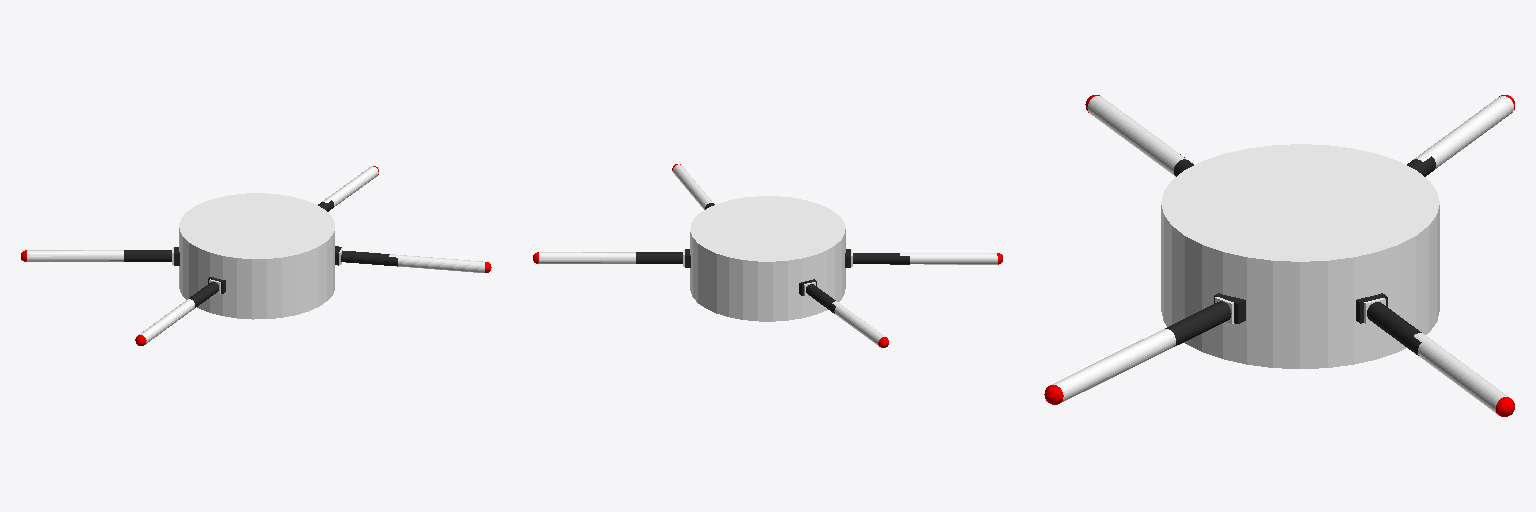
--- Render facts (derived) ---
3 views of the same robot in one strip: view 1: azimuth 30°, elevation 25°; view 2: azimuth 150°, elevation 25°; view 3: azimuth 270°, elevation 25° (orthographic).
Model ardent with 22 links and 21 joints (12 revolute, 9 fixed), rooted at base_link, posed every joint at zero.
Visible links, largest first — view 1: body, tibia_4, tibia_1, tibia_2, tibia_3, femur_1, femur_4; view 2: body, tibia_3, tibia_2, tibia_4, femur_2, tibia_1, femur_3; view 3: body, tibia_1, tibia_2, tibia_3, tibia_4, femur_1, femur_3.
Link boxes in pixels (x1,y1,x2,y2): body: (179, 193, 334, 319); tibia_4: (26, 250, 123, 261); tibia_1: (389, 254, 484, 272); tibia_2: (139, 299, 194, 344); tibia_3: (322, 166, 378, 206); femur_1: (341, 251, 397, 266); femur_4: (124, 250, 171, 261); body: (690, 196, 845, 321); tibia_3: (538, 252, 635, 263); tibia_2: (900, 253, 997, 264); tibia_4: (832, 301, 884, 345); femur_2: (853, 253, 909, 264); tibia_1: (673, 164, 712, 209); femur_3: (636, 252, 682, 263); body: (1161, 144, 1439, 368); tibia_1: (1052, 329, 1175, 402); tibia_2: (1087, 96, 1186, 176); tibia_3: (1414, 333, 1509, 414); tibia_4: (1413, 96, 1513, 168); femur_1: (1165, 301, 1231, 346); femur_3: (1367, 302, 1421, 355).
Bounding box of the posed robot: 1.05 × 0.6759 × 0.17 m (x, y, z).
Geometry: primitives only (box / cylinder / sphere), no mesh files.

robot.urdf — ardent:
<?xml version="1.0" encoding="utf-8"?>
<!-- =================================================================================== -->
<!-- |    This document was autogenerated by xacro from ardent_quad.xacro              | -->
<!-- |    EDITING THIS FILE BY HAND IS NOT RECOMMENDED                                 | -->
<!-- =================================================================================== -->
<robot name="ardent" xmlns:xacro="http://www.ros.org/wiki/xacro">
  <!-- <xacro:property name="joint_effort" value ="10000"/>
<xacro:property name="joint_velocity" value ="100"/> -->
  <!-- for more info visit: http://wiki.ros.org/urdf/Tutorials -->
  <link name="base_link"/>
  <joint name="j_ardent_attachment" type="fixed">
    <parent link="base_link"/>
    <child link="body"/>
    <origin rpy="0 0 0" xyz="0 0 0"/>
  </joint>
  <link name="body">
    <inertial>
      <origin xyz="0 0 0"/>
      <mass value="6.8"/>
      <inertia ixx="3.1081800" ixy="-0.25460189" ixz="2.0318174" iyy="6.3787776" iyz="0.16417863" izz="5.3316425"/>
    </inertial>
    <visual>
      <!--origin xyz="-0.0235 0 -0.03525" rpy="0 0 0" /-->
      <origin rpy="0 0 0" xyz="0 0 0"/>
      <geometry>
        <cylinder length="0.17" radius="0.2"/>
        <!--box size="0.102 0.109 0.106" /-->
        <!-- <mesh filename="package://phantomx_description/meshes/body.STL"  scale="1 1 1"/> -->
      </geometry>
      <material name="Orange">
        <color rgba="12 12 12 1.0"/>
      </material>
    </visual>
    <collision>
      <origin rpy="0 0 0" xyz="0 0 0"/>
      <geometry>
        <cylinder length="0.17" radius="0.2"/>
        <!-- <mesh filename="package://phantomx_description/meshes/body_coll.STL"  scale="1 1 1"/> -->
      </geometry>
    </collision>
  </link>
  <gazebo>
    <plugin filename="libgazebo_ros_p3d.so" name="p3d_base_controller">
      <alwaysOn>true</alwaysOn>
      <updateRate>50.0</updateRate>
      <bodyName>body</bodyName>
      <topicName>odom</topicName>
      <gaussianNoise>0.01</gaussianNoise>
      <frameNamespace>world</frameNamespace>
      <xyzOffsets> 0 0 0 </xyzOffsets>
      <rpyOffsets>0 0 0 </rpyOffsets>
    </plugin>
  </gazebo>
  <!-- <joint name="j_ardent_attachment" type="fixed">
      <parent link="${parent}"/>
      <child link="body"/>
      <xacro:insert_block name="origin" />
    </joint> -->
  <!-- <transmission name="t_ardent">
        <type>transmission_interface/SimpleTransmission</type>
        <joint name="j_ardent_attachment">
          <hardwareInterface>hardware_interface/EffortJointInterface</hardwareInterface>    
        </joint>
        <actuator name="j_ardent_attachment">
          <hardwareInterface>hardware_interface/EffortJointInterface</hardwareInterface>
          <mechanicalReduction>1</mechanicalReduction>
        </actuator>
      </transmission> -->
  <plugin filename="libgazebo_ros_imu.so" name="gazebo_ros_imu_plugin">
    <alwaysOn>true</alwaysOn>
    <bodyName>body</bodyName>
    <topicName>imu/data</topicName>
    <serviceName>imu/service</serviceName>
    <gaussianNoise>0.0</gaussianNoise>
    <updateRate>800.0</updateRate>
  </plugin>
  <link name="coxa_1">
    <inertial>
      <origin rpy="0 0 0" xyz="0 0 0"/>
      <mass value="0.024357719"/>
      <inertia ixx="0.0051411124" ixy="-0.00057530255" ixz="-0.000024729049" iyy="0.0081915737" iyz="-0.000019223094" izz="0.0011379812"/>
    </inertial>
    <visual>
      <origin rpy="0 0 0" xyz="0 0 0"/>
      <geometry>
        <box size="0.022 0.045 0.0325"/>
        <!--<mesh filename="package://phantomx_description/meshes/connect.STL"  scale="1 1 1"/>-->
      </geometry>
      <material name="Grey">
        <color rgba="0.20 0.20 0.20 1.0"/>
      </material>
    </visual>
    <collision>
      <origin rpy="0 0 0" xyz="0 0 0"/>
      <geometry>
        <box size="0.022 0.045 0.0325"/>
        <!-- <mesh filename="package://phantomx_description/meshes/connect_coll.STL"  scale="1 1 1"/> -->
      </geometry>
    </collision>
  </link>
  <link name="c2_1">
    <inertial>
      <origin rpy="0 0 0" xyz="0 0 0"/>
      <mass value="0.024357719"/>
      <inertia ixx="0.0051411124" ixy="-0.00057530255" ixz="-0.000024729049" iyy="0.0081915737" iyz="-0.000019223094" izz="0.0011379812"/>
    </inertial>
    <visual>
      <origin rpy="0 0 0" xyz="0 0 0"/>
      <geometry>
        <box size="0.005 0.0325 0.0325"/>
        <!-- <mesh filename="package://phantomx_description/meshes/connect.STL"  scale="1 1 1"/>-->
      </geometry>
      <material name="Orange">
        <color rgba="12 12 12 1.0"/>
      </material>
    </visual>
    <collision>
      <origin rpy="0 0 0" xyz="0 0 0"/>
      <geometry>
        <box size="0.005 0.0325 0.0325"/>
        <!-- <mesh filename="package://phantomx_description/meshes/connect.STL"  scale="1 1 1"/>-->
      </geometry>
    </collision>
  </link>
  <link name="femur_1">
    <inertial>
      <origin rpy="0 0 0" xyz="1 0 0"/>
      <mass value="0.0286"/>
      <!-- <inertia ixx="0.000035572"  ixy="-0.000114256"  ixz="-0.000008584" iyy="0.000756486" iyz="-0.000001714" izz="0.000791714" /> -->
      <inertia ixx="0.00059" ixy="-0.0" ixz="-0.0" iyy="0.0" iyz="-0.0" izz="0.00059"/>
    </inertial>
    <visual>
      <origin rpy="0 1.57 0" xyz="0.075 0 0"/>
      <geometry>
        <!-- <box size="0.022 0.25 0.0325" /> -->
        <cylinder length="0.15" radius="0.015"/>
        <!--<mesh filename="package://phantomx_description/meshes/thigh_l.STL"  scale="1 1 1"/>-->
      </geometry>
      <material name="Grey">
        <color rgba="0.20 0.20 0.20 1.0"/>
      </material>
    </visual>
    <collision>
      <origin rpy="0 1.57 0" xyz="0.075 0 0"/>
      <geometry>
        <cylinder length="0.15" radius="0.015"/>
        <!-- <mesh filename="package://phantomx_description/meshes/thigh_l_coll.STL"  scale="1 1 1"/> -->
      </geometry>
    </collision>
  </link>
  <link name="tibia_1">
    <inertial>
      <origin rpy="0 0 0" xyz="0 0 0"/>
      <mass value="0.0286"/>
      <!-- g/mm^2 -->
      <!-- <inertia ixx="35572"  ixy="-114256"  ixz="-8584" iyy="756486" iyz="-1714" izz="791714" /> -->
      <!-- <inertia ixx="0.000035572"  ixy="-0.000114256"  ixz="-0.000008584" iyy="0.000756486" iyz="-0.000001714" izz="0.000791714" /> -->
      <inertia ixx="0.00059" ixy="-0.0" ixz="-0.0" iyy="0.0" iyz="-0.0" izz="0.00059"/>
    </inertial>
    <visual>
      <origin rpy="1.57 0 1.57" xyz="0.125 0 0"/>
      <geometry>
        <cylinder length="0.25" radius="0.015"/>
        <!-- <box size="0.022 0.25 0.0325" /> -->
        <!--<mesh filename="package://phantomx_description/meshes/tibia_l.STL"  scale="1 1 1"/>-->
      </geometry>
      <material name="Orange">
        <color rgba="12 12 12 1.0"/>
      </material>
    </visual>
    <collision>
      <origin rpy="1.57 0 1.57" xyz="0.125 0 0"/>
      <geometry>
        <cylinder length="0.25" radius="0.015"/>
        <!-- <mesh filename="package://phantomx_description/meshes/tibia_l_coll.STL"  scale="1 1 1"/> -->
      </geometry>
    </collision>
  </link>
  <link name="contact_sensor_1">
    <inertial>
      <origin rpy="0 0 0" xyz="0 0 0"/>
      <mass value="0.005"/>
      <inertia ixx="1.28e-06" ixy="-0.0" ixz="-0.0" iyy="1.28e-06" iyz="-0.0" izz="1.28e-06"/>
    </inertial>
    <visual>
      <origin rpy="0 0 0" xyz="0 0 0"/>
      <geometry>
        <sphere radius="0.015"/>
        <!-- <box size="0.022 0.25 0.0325" /> -->
        <!--<mesh filename="package://phantomx_description/meshes/tibia_l.STL"  scale="1 1 1"/>-->
      </geometry>
      <material name="Black">
        <color rgba="1.0 0 0 0"/>
      </material>
    </visual>
    <collision>
      <origin rpy="0.0 0 0.0" xyz="0.0 0 0"/>
      <geometry>
        <sphere radius="0.015"/>
        <!-- <mesh filename="package://phantomx_description/meshes/tibia_l_coll.STL"  scale="1 1 1"/> -->
      </geometry>
    </collision>
  </link>
  <!-- Joint Definitions -->
  <joint name="j_coxa_1" type="revolute">
    <parent link="body"/>
    <child link="coxa_1"/>
    <origin rpy="0 0 5.576" xyz="0.175 -0.1  0.001116"/>
    <axis xyz="0 0 1"/>
    <limit effort="30" lower="-3.14" upper="3.14" velocity="0.5"/>
  </joint>
  <joint name="j_c2_1" type="fixed">
    <parent link="coxa_1"/>
    <child link="c2_1"/>
    <origin rpy="0 0 0" xyz="0.0135 0 0"/>
    <limit effort="30" lower="-3.14" upper="3.14" velocity="0.5"/>
  </joint>
  <joint name="j_femur_1" type="revolute">
    <parent link="c2_1"/>
    <child link="femur_1"/>
    <origin rpy=" 1.57 0 0" xyz="0 0 0"/>
    <axis xyz="0 0 1"/>
    <limit effort="30" lower="-3.14" upper="3.14" velocity="0.5"/>
  </joint>
  <joint name="j_tibia_1" type="revolute">
    <parent link="femur_1"/>
    <child link="tibia_1"/>
    <origin rpy="0 0 0" xyz="0.125 0 0"/>
    <axis xyz="0 0 1"/>
    <limit effort="30" lower="-3.14" upper="3.14" velocity="0.5"/>
  </joint>
  <joint name="j_contact_sensor_1" type="fixed">
    <parent link="tibia_1"/>
    <child link="contact_sensor_1"/>
    <origin rpy="0 0 0" xyz="0.25 0 0"/>
  </joint>
  <!-- <gazebo reference="$tibia_${suffix}">
        <mu1>1</mu1>
        <mu2>1</mu2>
        <fdir1>1 0 0</fdir1>
        <minDepth>0.005</minDepth>
        <maxContacts>1</maxContacts>
            <collision name="$tibia_${suffix}_collision">
                <geometry>
                    <sphere>
                    <radius>0.02175</radius>
                </sphere>
                </geometry>

            <surface>
                <friction>
                    <torsional>
                            <coefficient>10</coefficient>
                            <use_patch_radius>true</use_patch_radius>
                            <surface_radius>0.05</surface_radius>
                            <patch_radius>0.01</patch_radius>
                    </torsional>
            </friction>
            <contact>
                <poissons_ratio>0.5</poissons_ratio>
                <elastic_modulus>1e8</elastic_modulus>
            </contact>
        </surface>
    </collision>
    </gazebo> -->
  <!-- Force/Contact Sensor -->
  <!-- This should be added later to provide the force sensor feeback to the rest of the robot -->
  <gazebo reference="contact_sensor_1">
    <sensor name="contact_sensor_1" type="contact">
      <always_on>true</always_on>
      <update_rate>30</update_rate>
      <contact>
        <collision>contact_sensor_1_link_collision</collision>
      </contact>
      <plugin filename="libgazebo_ros_bumper.so" name="bumper0_plugin">
        <bumperTopicName>leg_1/contact_sensor_state</bumperTopicName>
        <frameName>contact_sensor_1</frameName>
      </plugin>
    </sensor>
  </gazebo>
  <!-- Transmissions -->
  <transmission name="t_coxa_1">
    <type>transmission_interface/SimpleTransmission</type>
    <joint name="j_coxa_1">
      <hardwareInterface>hardware_interface/EffortJointInterface</hardwareInterface>
    </joint>
    <actuator name="j_coxa_1">
      <hardwareInterface>hardware_interface/EffortJointInterface</hardwareInterface>
      <mechanicalReduction>1</mechanicalReduction>
    </actuator>
  </transmission>
  <transmission name="t_femur_1">
    <type>transmission_interface/SimpleTransmission</type>
    <joint name="j_femur_1">
      <hardwareInterface>hardware_interface/EffortJointInterface</hardwareInterface>
    </joint>
    <actuator name="j_femur_1">
      <hardwareInterface>hardware_interface/EffortJointInterface</hardwareInterface>
      <mechanicalReduction>1</mechanicalReduction>
    </actuator>
  </transmission>
  <transmission name="t_tibia_1">
    <type>transmission_interface/SimpleTransmission</type>
    <joint name="j_tibia_1">
      <hardwareInterface>hardware_interface/EffortJointInterface</hardwareInterface>
    </joint>
    <actuator name="j_tibia_1">
      <hardwareInterface>hardware_interface/EffortJointInterface</hardwareInterface>
      <mechanicalReduction>1</mechanicalReduction>
    </actuator>
  </transmission>
  <gazebo reference="body">
    <material>Gazebo/Orange</material>
  </gazebo>
  <gazebo reference="coxa_1">
    <material>Gazebo/Black</material>
  </gazebo>
  <gazebo reference="c2_1">
    <material>Gazebo/Orange</material>
  </gazebo>
  <gazebo reference="femur_1">
    <material>Gazebo/Black</material>
  </gazebo>
  <gazebo reference="tibia_1">
    <material>Gazebo/Orange</material>
  </gazebo>
  <gazebo reference="contact_sensor_1">
    <material>Gazebo/Black</material>
  </gazebo>
  <link name="coxa_2">
    <inertial>
      <origin rpy="0 0 0" xyz="0 0 0"/>
      <mass value="0.024357719"/>
      <inertia ixx="0.0051411124" ixy="-0.00057530255" ixz="-0.000024729049" iyy="0.0081915737" iyz="-0.000019223094" izz="0.0011379812"/>
    </inertial>
    <visual>
      <origin rpy="0 0 0" xyz="0 0 0"/>
      <geometry>
        <box size="0.022 0.045 0.0325"/>
        <!--<mesh filename="package://phantomx_description/meshes/connect.STL"  scale="1 1 1"/>-->
      </geometry>
      <material name="Grey">
        <color rgba="0.20 0.20 0.20 1.0"/>
      </material>
    </visual>
    <collision>
      <origin rpy="0 0 0" xyz="0 0 0"/>
      <geometry>
        <box size="0.022 0.045 0.0325"/>
        <!-- <mesh filename="package://phantomx_description/meshes/connect_coll.STL"  scale="1 1 1"/> -->
      </geometry>
    </collision>
  </link>
  <link name="c2_2">
    <inertial>
      <origin rpy="0 0 0" xyz="0 0 0"/>
      <mass value="0.024357719"/>
      <inertia ixx="0.0051411124" ixy="-0.00057530255" ixz="-0.000024729049" iyy="0.0081915737" iyz="-0.000019223094" izz="0.0011379812"/>
    </inertial>
    <visual>
      <origin rpy="0 0 0" xyz="0 0 0"/>
      <geometry>
        <box size="0.005 0.0325 0.0325"/>
        <!-- <mesh filename="package://phantomx_description/meshes/connect.STL"  scale="1 1 1"/>-->
      </geometry>
      <material name="Orange">
        <color rgba="12 12 12 1.0"/>
      </material>
    </visual>
    <collision>
      <origin rpy="0 0 0" xyz="0 0 0"/>
      <geometry>
        <box size="0.005 0.0325 0.0325"/>
        <!-- <mesh filename="package://phantomx_description/meshes/connect.STL"  scale="1 1 1"/>-->
      </geometry>
    </collision>
  </link>
  <link name="femur_2">
    <inertial>
      <origin rpy="0 0 0" xyz="1 0 0"/>
      <mass value="0.0286"/>
      <!-- <inertia ixx="0.000035572"  ixy="-0.000114256"  ixz="-0.000008584" iyy="0.000756486" iyz="-0.000001714" izz="0.000791714" /> -->
      <inertia ixx="0.00059" ixy="-0.0" ixz="-0.0" iyy="0.0" iyz="-0.0" izz="0.00059"/>
    </inertial>
    <visual>
      <origin rpy="0 1.57 0" xyz="0.075 0 0"/>
      <geometry>
        <!-- <box size="0.022 0.25 0.0325" /> -->
        <cylinder length="0.15" radius="0.015"/>
        <!--<mesh filename="package://phantomx_description/meshes/thigh_l.STL"  scale="1 1 1"/>-->
      </geometry>
      <material name="Grey">
        <color rgba="0.20 0.20 0.20 1.0"/>
      </material>
    </visual>
    <collision>
      <origin rpy="0 1.57 0" xyz="0.075 0 0"/>
      <geometry>
        <cylinder length="0.15" radius="0.015"/>
        <!-- <mesh filename="package://phantomx_description/meshes/thigh_l_coll.STL"  scale="1 1 1"/> -->
      </geometry>
    </collision>
  </link>
  <link name="tibia_2">
    <inertial>
      <origin rpy="0 0 0" xyz="0 0 0"/>
      <mass value="0.0286"/>
      <!-- g/mm^2 -->
      <!-- <inertia ixx="35572"  ixy="-114256"  ixz="-8584" iyy="756486" iyz="-1714" izz="791714" /> -->
      <!-- <inertia ixx="0.000035572"  ixy="-0.000114256"  ixz="-0.000008584" iyy="0.000756486" iyz="-0.000001714" izz="0.000791714" /> -->
      <inertia ixx="0.00059" ixy="-0.0" ixz="-0.0" iyy="0.0" iyz="-0.0" izz="0.00059"/>
    </inertial>
    <visual>
      <origin rpy="1.57 0 1.57" xyz="0.125 0 0"/>
      <geometry>
        <cylinder length="0.25" radius="0.015"/>
        <!-- <box size="0.022 0.25 0.0325" /> -->
        <!--<mesh filename="package://phantomx_description/meshes/tibia_l.STL"  scale="1 1 1"/>-->
      </geometry>
      <material name="Orange">
        <color rgba="12 12 12 1.0"/>
      </material>
    </visual>
    <collision>
      <origin rpy="1.57 0 1.57" xyz="0.125 0 0"/>
      <geometry>
        <cylinder length="0.25" radius="0.015"/>
        <!-- <mesh filename="package://phantomx_description/meshes/tibia_l_coll.STL"  scale="1 1 1"/> -->
      </geometry>
    </collision>
  </link>
  <link name="contact_sensor_2">
    <inertial>
      <origin rpy="0 0 0" xyz="0 0 0"/>
      <mass value="0.005"/>
      <inertia ixx="1.28e-06" ixy="-0.0" ixz="-0.0" iyy="1.28e-06" iyz="-0.0" izz="1.28e-06"/>
    </inertial>
    <visual>
      <origin rpy="0 0 0" xyz="0 0 0"/>
      <geometry>
        <sphere radius="0.015"/>
        <!-- <box size="0.022 0.25 0.0325" /> -->
        <!--<mesh filename="package://phantomx_description/meshes/tibia_l.STL"  scale="1 1 1"/>-->
      </geometry>
      <material name="Black">
        <color rgba="1.0 0 0 0"/>
      </material>
    </visual>
    <collision>
      <origin rpy="0.0 0 0.0" xyz="0.0 0 0"/>
      <geometry>
        <sphere radius="0.015"/>
        <!-- <mesh filename="package://phantomx_description/meshes/tibia_l_coll.STL"  scale="1 1 1"/> -->
      </geometry>
    </collision>
  </link>
  <!-- Joint Definitions -->
  <joint name="j_coxa_2" type="revolute">
    <parent link="body"/>
    <child link="coxa_2"/>
    <origin rpy="0 0 -2.62" xyz="-0.175 -0.1  0.001116"/>
    <axis xyz="0 0 1"/>
    <limit effort="30" lower="-3.14" upper="3.14" velocity="0.5"/>
  </joint>
  <joint name="j_c2_2" type="fixed">
    <parent link="coxa_2"/>
    <child link="c2_2"/>
    <origin rpy="0 0 0" xyz="0.0135 0 0"/>
    <limit effort="30" lower="-3.14" upper="3.14" velocity="0.5"/>
  </joint>
  <joint name="j_femur_2" type="revolute">
    <parent link="c2_2"/>
    <child link="femur_2"/>
    <origin rpy=" 1.57 0 0" xyz="0 0 0"/>
    <axis xyz="0 0 1"/>
    <limit effort="30" lower="-3.14" upper="3.14" velocity="0.5"/>
  </joint>
  <joint name="j_tibia_2" type="revolute">
    <parent link="femur_2"/>
    <child link="tibia_2"/>
    <origin rpy="0 0 0" xyz="0.125 0 0"/>
    <axis xyz="0 0 1"/>
    <limit effort="30" lower="-3.14" upper="3.14" velocity="0.5"/>
  </joint>
  <joint name="j_contact_sensor_2" type="fixed">
    <parent link="tibia_2"/>
    <child link="contact_sensor_2"/>
    <origin rpy="0 0 0" xyz="0.25 0 0"/>
  </joint>
  <!-- <gazebo reference="$tibia_${suffix}">
        <mu1>1</mu1>
        <mu2>1</mu2>
        <fdir1>1 0 0</fdir1>
        <minDepth>0.005</minDepth>
        <maxContacts>1</maxContacts>
            <collision name="$tibia_${suffix}_collision">
                <geometry>
                    <sphere>
                    <radius>0.02175</radius>
                </sphere>
                </geometry>

            <surface>
                <friction>
                    <torsional>
                            <coefficient>10</coefficient>
                            <use_patch_radius>true</use_patch_radius>
                            <surface_radius>0.05</surface_radius>
                            <patch_radius>0.01</patch_radius>
                    </torsional>
            </friction>
            <contact>
                <poissons_ratio>0.5</poissons_ratio>
                <elastic_modulus>1e8</elastic_modulus>
            </contact>
        </surface>
    </collision>
    </gazebo> -->
  <!-- Force/Contact Sensor -->
  <!-- This should be added later to provide the force sensor feeback to the rest of the robot -->
  <gazebo reference="contact_sensor_2">
    <sensor name="contact_sensor_2" type="contact">
      <always_on>true</always_on>
      <update_rate>30</update_rate>
      <contact>
        <collision>contact_sensor_2_link_collision</collision>
      </contact>
      <plugin filename="libgazebo_ros_bumper.so" name="bumper0_plugin">
        <bumperTopicName>leg_2/contact_sensor_state</bumperTopicName>
        <frameName>contact_sensor_2</frameName>
      </plugin>
    </sensor>
  </gazebo>
  <!-- Transmissions -->
  <transmission name="t_coxa_2">
    <type>transmission_interface/SimpleTransmission</type>
    <joint name="j_coxa_2">
      <hardwareInterface>hardware_interface/EffortJointInterface</hardwareInterface>
    </joint>
    <actuator name="j_coxa_2">
      <hardwareInterface>hardware_interface/EffortJointInterface</hardwareInterface>
      <mechanicalReduction>1</mechanicalReduction>
    </actuator>
  </transmission>
  <transmission name="t_femur_2">
    <type>transmission_interface/SimpleTransmission</type>
    <joint name="j_femur_2">
      <hardwareInterface>hardware_interface/EffortJointInterface</hardwareInterface>
    </joint>
    <actuator name="j_femur_2">
      <hardwareInterface>hardware_interface/EffortJointInterface</hardwareInterface>
      <mechanicalReduction>1</mechanicalReduction>
    </actuator>
  </transmission>
  <transmission name="t_tibia_2">
    <type>transmission_interface/SimpleTransmission</type>
    <joint name="j_tibia_2">
      <hardwareInterface>hardware_interface/EffortJointInterface</hardwareInterface>
    </joint>
    <actuator name="j_tibia_2">
      <hardwareInterface>hardware_interface/EffortJointInterface</hardwareInterface>
      <mechanicalReduction>1</mechanicalReduction>
    </actuator>
  </transmission>
  <gazebo reference="body">
    <material>Gazebo/Orange</material>
  </gazebo>
  <gazebo reference="coxa_2">
    <material>Gazebo/Black</material>
  </gazebo>
  <gazebo reference="c2_2">
    <material>Gazebo/Orange</material>
  </gazebo>
  <gazebo reference="femur_2">
    <material>Gazebo/Black</material>
  </gazebo>
  <gazebo reference="tibia_2">
    <material>Gazebo/Orange</material>
  </gazebo>
  <gazebo reference="contact_sensor_2">
    <material>Gazebo/Black</material>
  </gazebo>
  <link name="coxa_3">
    <inertial>
      <origin rpy="0 0 0" xyz="0 0 0"/>
      <mass value="0.024357719"/>
      <inertia ixx="0.0051411124" ixy="-0.00057530255" ixz="-0.000024729049" iyy="0.0081915737" iyz="-0.000019223094" izz="0.0011379812"/>
    </inertial>
    <visual>
      <origin rpy="0 0 0" xyz="0 0 0"/>
      <geometry>
        <box size="0.022 0.045 0.0325"/>
        <!--<mesh filename="package://phantomx_description/meshes/connect.STL"  scale="1 1 1"/>-->
      </geometry>
      <material name="Grey">
        <color rgba="0.20 0.20 0.20 1.0"/>
      </material>
    </visual>
    <collision>
      <origin rpy="0 0 0" xyz="0 0 0"/>
      <geometry>
        <box size="0.022 0.045 0.0325"/>
        <!-- <mesh filename="package://phantomx_description/meshes/connect_coll.STL"  scale="1 1 1"/> -->
      </geometry>
    </collision>
  </link>
  <link name="c2_3">
    <inertial>
      <origin rpy="0 0 0" xyz="0 0 0"/>
      <mass value="0.024357719"/>
      <inertia ixx="0.0051411124" ixy="-0.00057530255" ixz="-0.000024729049" iyy="0.0081915737" iyz="-0.000019223094" izz="0.0011379812"/>
    </inertial>
    <visual>
      <origin rpy="0 0 0" xyz="0 0 0"/>
      <geometry>
        <box size="0.005 0.0325 0.0325"/>
        <!-- <mesh filename="package://phantomx_description/meshes/connect.STL"  scale="1 1 1"/>-->
      </geometry>
      <material name="Orange">
        <color rgba="12 12 12 1.0"/>
      </material>
    </visual>
    <collision>
      <origin rpy="0 0 0" xyz="0 0 0"/>
      <geometry>
        <box size="0.005 0.0325 0.0325"/>
        <!-- <mesh filename="package://phantomx_description/meshes/connect.STL"  scale="1 1 1"/>-->
      </geometry>
    </collision>
  </link>
  <link name="femur_3">
    <inertial>
      <origin rpy="0 0 0" xyz="1 0 0"/>
      <mass value="0.0286"/>
      <!-- <inertia ixx="0.000035572"  ixy="-0.000114256"  ixz="-0.000008584" iyy="0.000756486" iyz="-0.000001714" izz="0.000791714" /> -->
      <inertia ixx="0.00059" ixy="-0.0" ixz="-0.0" iyy="0.0" iyz="-0.0" izz="0.00059"/>
    </inertial>
    <visual>
      <origin rpy="0 1.57 0" xyz="0.075 0 0"/>
      <geometry>
        <!-- <box size="0.022 0.25 0.0325" /> -->
        <cylinder length="0.15" radius="0.015"/>
        <!--<mesh filename="package://phantomx_description/meshes/thigh_l.STL"  scale="1 1 1"/>-->
      </geometry>
      <material name="Grey">
        <color rgba="0.20 0.20 0.20 1.0"/>
      </material>
    </visual>
    <collision>
      <origin rpy="0 1.57 0" xyz="0.075 0 0"/>
      <geometry>
        <cylinder length="0.15" radius="0.015"/>
        <!-- <mesh filename="package://phantomx_description/meshes/thigh_l_coll.STL"  scale="1 1 1"/> -->
      </geometry>
    </collision>
  </link>
  <link name="tibia_3">
    <inertial>
      <origin rpy="0 0 0" xyz="0 0 0"/>
      <mass value="0.0286"/>
      <!-- g/mm^2 -->
      <!-- <inertia ixx="35572"  ixy="-114256"  ixz="-8584" iyy="756486" iyz="-1714" izz="791714" /> -->
      <!-- <inertia ixx="0.000035572"  ixy="-0.000114256"  ixz="-0.000008584" iyy="0.000756486" iyz="-0.000001714" izz="0.000791714" /> -->
      <inertia ixx="0.00059" ixy="-0.0" ixz="-0.0" iyy="0.0" iyz="-0.0" izz="0.00059"/>
    </inertial>
    <visual>
      <origin rpy="1.57 0 1.57" xyz="0.125 0 0"/>
      <geometry>
        <cylinder length="0.25" radius="0.015"/>
        <!-- <box size="0.022 0.25 0.0325" /> -->
        <!--<mesh filename="package://phantomx_description/meshes/tibia_l.STL"  scale="1 1 1"/>-->
      </geometry>
      <material name="Orange">
        <color rgba="12 12 12 1.0"/>
      </material>
    </visual>
    <collision>
      <origin rpy="1.57 0 1.57" xyz="0.125 0 0"/>
      <geometry>
        <cylinder length="0.25" radius="0.015"/>
        <!-- <mesh filename="package://phantomx_description/meshes/tibia_l_coll.STL"  scale="1 1 1"/> -->
      </geometry>
    </collision>
  </link>
  <link name="contact_sensor_3">
    <inertial>
      <origin rpy="0 0 0" xyz="0 0 0"/>
      <mass value="0.005"/>
      <inertia ixx="1.28e-06" ixy="-0.0" ixz="-0.0" iyy="1.28e-06" iyz="-0.0" izz="1.28e-06"/>
    </inertial>
    <visual>
      <origin rpy="0 0 0" xyz="0 0 0"/>
      <geometry>
        <sphere radius="0.015"/>
        <!-- <box size="0.022 0.25 0.0325" /> -->
        <!--<mesh filename="package://phantomx_description/meshes/tibia_l.STL"  scale="1 1 1"/>-->
      </geometry>
      <material name="Black">
        <color rgba="1.0 0 0 0"/>
      </material>
    </visual>
    <collision>
      <origin rpy="0.0 0 0.0" xyz="0.0 0 0"/>
      <geometry>
        <sphere radius="0.015"/>
        <!-- <mesh filename="package://phantomx_description/meshes/tibia_l_coll.STL"  scale="1 1 1"/> -->
      </geometry>
    </collision>
  </link>
  <!-- Joint Definitions -->
  <joint name="j_coxa_3" type="revolute">
    <parent link="body"/>
    <child link="coxa_3"/>
    <origin rpy="0 0 0.52" xyz="0.175 0.1  0.001116"/>
    <axis xyz="0 0 1"/>
    <limit effort="30" lower="-3.14" upper="3.14" velocity="0.5"/>
  </joint>
  <joint name="j_c2_3" type="fixed">
    <parent link="coxa_3"/>
    <child link="c2_3"/>
    <origin rpy="0 0 0" xyz="0.0135 0 0"/>
    <limit effort="30" lower="-3.14" upper="3.14" velocity="0.5"/>
  </joint>
  <joint name="j_femur_3" type="revolute">
    <parent link="c2_3"/>
    <child link="femur_3"/>
    <origin rpy=" 1.57 0 0" xyz="0 0 0"/>
    <axis xyz="0 0 1"/>
    <limit effort="30" lower="-3.14" upper="3.14" velocity="0.5"/>
  </joint>
  <joint name="j_tibia_3" type="revolute">
    <parent link="femur_3"/>
    <child link="tibia_3"/>
    <origin rpy="0 0 0" xyz="0.125 0 0"/>
    <axis xyz="0 0 1"/>
    <limit effort="30" lower="-3.14" upper="3.14" velocity="0.5"/>
  </joint>
  <joint name="j_contact_sensor_3" type="fixed">
    <parent link="tibia_3"/>
    <child link="contact_sensor_3"/>
    <origin rpy="0 0 0" xyz="0.25 0 0"/>
  </joint>
  <!-- <gazebo reference="$tibia_${suffix}">
        <mu1>1</mu1>
        <mu2>1</mu2>
        <fdir1>1 0 0</fdir1>
        <minDepth>0.005</minDepth>
        <maxContacts>1</maxContacts>
            <collision name="$tibia_${suffix}_collision">
                <geometry>
                    <sphere>
                    <radius>0.02175</radius>
                </sphere>
                </geometry>

            <surface>
                <friction>
                    <torsional>
                            <coefficient>10</coefficient>
                            <use_patch_radius>true</use_patch_radius>
                            <surface_radius>0.05</surface_radius>
                            <patch_radius>0.01</patch_radius>
                    </torsional>
            </friction>
            <contact>
                <poissons_ratio>0.5</poissons_ratio>
                <elastic_modulus>1e8</elastic_modulus>
            </contact>
        </surface>
    </collision>
    </gazebo> -->
  <!-- Force/Contact Sensor -->
  <!-- This should be added later to provide the force sensor feeback to the rest of the robot -->
  <gazebo reference="contact_sensor_3">
    <sensor name="contact_sensor_3" type="contact">
      <always_on>true</always_on>
      <update_rate>30</update_rate>
      <contact>
        <collision>contact_sensor_3_link_collision</collision>
      </contact>
      <plugin filename="libgazebo_ros_bumper.so" name="bumper0_plugin">
        <bumperTopicName>leg_3/contact_sensor_state</bumperTopicName>
        <frameName>contact_sensor_3</frameName>
      </plugin>
    </sensor>
  </gazebo>
  <!-- Transmissions -->
  <transmission name="t_coxa_3">
    <type>transmission_interface/SimpleTransmission</type>
    <joint name="j_coxa_3">
      <hardwareInterface>hardware_interface/EffortJointInterface</hardwareInterface>
    </joint>
    <actuator name="j_coxa_3">
      <hardwareInterface>hardware_interface/EffortJointInterface</hardwareInterface>
      <mechanicalReduction>1</mechanicalReduction>
    </actuator>
  </transmission>
  <transmission name="t_femur_3">
    <type>transmission_interface/SimpleTransmission</type>
    <joint name="j_femur_3">
      <hardwareInterface>hardware_interface/EffortJointInterface</hardwareInterface>
    </joint>
    <actuator name="j_femur_3">
      <hardwareInterface>hardware_interface/EffortJointInterface</hardwareInterface>
      <mechanicalReduction>1</mechanicalReduction>
    </actuator>
  </transmission>
  <transmission name="t_tibia_3">
    <type>transmission_interface/SimpleTransmission</type>
    <joint name="j_tibia_3">
      <hardwareInterface>hardware_interface/EffortJointInterface</hardwareInterface>
    </joint>
    <actuator name="j_tibia_3">
      <hardwareInterface>hardware_interface/EffortJointInterface</hardwareInterface>
      <mechanicalReduction>1</mechanicalReduction>
    </actuator>
  </transmission>
  <gazebo reference="body">
    <material>Gazebo/Orange</material>
  </gazebo>
  <gazebo reference="coxa_3">
    <material>Gazebo/Black</material>
  </gazebo>
  <gazebo reference="c2_3">
    <material>Gazebo/Orange</material>
  </gazebo>
  <gazebo reference="femur_3">
    <material>Gazebo/Black</material>
  </gazebo>
  <gazebo reference="tibia_3">
    <material>Gazebo/Orange</material>
  </gazebo>
  <gazebo reference="contact_sensor_3">
    <material>Gazebo/Black</material>
  </gazebo>
  <link name="coxa_4">
    <inertial>
      <origin rpy="0 0 0" xyz="0 0 0"/>
      <mass value="0.024357719"/>
      <inertia ixx="0.0051411124" ixy="-0.00057530255" ixz="-0.000024729049" iyy="0.0081915737" iyz="-0.000019223094" izz="0.0011379812"/>
    </inertial>
    <visual>
      <origin rpy="0 0 0" xyz="0 0 0"/>
      <geometry>
        <box size="0.022 0.045 0.0325"/>
        <!--<mesh filename="package://phantomx_description/meshes/connect.STL"  scale="1 1 1"/>-->
      </geometry>
      <material name="Grey">
        <color rgba="0.20 0.20 0.20 1.0"/>
      </material>
    </visual>
    <collision>
      <origin rpy="0 0 0" xyz="0 0 0"/>
      <geometry>
        <box size="0.022 0.045 0.0325"/>
        <!-- <mesh filename="package://phantomx_description/meshes/connect_coll.STL"  scale="1 1 1"/> -->
      </geometry>
    </collision>
  </link>
  <link name="c2_4">
    <inertial>
      <origin rpy="0 0 0" xyz="0 0 0"/>
      <mass value="0.024357719"/>
      <inertia ixx="0.0051411124" ixy="-0.00057530255" ixz="-0.000024729049" iyy="0.0081915737" iyz="-0.000019223094" izz="0.0011379812"/>
    </inertial>
    <visual>
      <origin rpy="0 0 0" xyz="0 0 0"/>
      <geometry>
        <box size="0.005 0.0325 0.0325"/>
        <!-- <mesh filename="package://phantomx_description/meshes/connect.STL"  scale="1 1 1"/>-->
      </geometry>
      <material name="Orange">
        <color rgba="12 12 12 1.0"/>
      </material>
    </visual>
    <collision>
      <origin rpy="0 0 0" xyz="0 0 0"/>
      <geometry>
        <box size="0.005 0.0325 0.0325"/>
        <!-- <mesh filename="package://phantomx_description/meshes/connect.STL"  scale="1 1 1"/>-->
      </geometry>
    </collision>
  </link>
  <link name="femur_4">
    <inertial>
      <origin rpy="0 0 0" xyz="1 0 0"/>
      <mass value="0.0286"/>
      <!-- <inertia ixx="0.000035572"  ixy="-0.000114256"  ixz="-0.000008584" iyy="0.000756486" iyz="-0.000001714" izz="0.000791714" /> -->
      <inertia ixx="0.00059" ixy="-0.0" ixz="-0.0" iyy="0.0" iyz="-0.0" izz="0.00059"/>
    </inertial>
    <visual>
      <origin rpy="0 1.57 0" xyz="0.075 0 0"/>
      <geometry>
        <!-- <box size="0.022 0.25 0.0325" /> -->
        <cylinder length="0.15" radius="0.015"/>
        <!--<mesh filename="package://phantomx_description/meshes/thigh_l.STL"  scale="1 1 1"/>-->
      </geometry>
      <material name="Grey">
        <color rgba="0.20 0.20 0.20 1.0"/>
      </material>
    </visual>
    <collision>
      <origin rpy="0 1.57 0" xyz="0.075 0 0"/>
      <geometry>
        <cylinder length="0.15" radius="0.015"/>
        <!-- <mesh filename="package://phantomx_description/meshes/thigh_l_coll.STL"  scale="1 1 1"/> -->
      </geometry>
    </collision>
  </link>
  <link name="tibia_4">
    <inertial>
      <origin rpy="0 0 0" xyz="0 0 0"/>
      <mass value="0.0286"/>
      <!-- g/mm^2 -->
      <!-- <inertia ixx="35572"  ixy="-114256"  ixz="-8584" iyy="756486" iyz="-1714" izz="791714" /> -->
      <!-- <inertia ixx="0.000035572"  ixy="-0.000114256"  ixz="-0.000008584" iyy="0.000756486" iyz="-0.000001714" izz="0.000791714" /> -->
      <inertia ixx="0.00059" ixy="-0.0" ixz="-0.0" iyy="0.0" iyz="-0.0" izz="0.00059"/>
    </inertial>
    <visual>
      <origin rpy="1.57 0 1.57" xyz="0.125 0 0"/>
      <geometry>
        <cylinder length="0.25" radius="0.015"/>
        <!-- <box size="0.022 0.25 0.0325" /> -->
        <!--<mesh filename="package://phantomx_description/meshes/tibia_l.STL"  scale="1 1 1"/>-->
      </geometry>
      <material name="Orange">
        <color rgba="12 12 12 1.0"/>
      </material>
    </visual>
    <collision>
      <origin rpy="1.57 0 1.57" xyz="0.125 0 0"/>
      <geometry>
        <cylinder length="0.25" radius="0.015"/>
        <!-- <mesh filename="package://phantomx_description/meshes/tibia_l_coll.STL"  scale="1 1 1"/> -->
      </geometry>
    </collision>
  </link>
  <link name="contact_sensor_4">
    <inertial>
      <origin rpy="0 0 0" xyz="0 0 0"/>
      <mass value="0.005"/>
      <inertia ixx="1.28e-06" ixy="-0.0" ixz="-0.0" iyy="1.28e-06" iyz="-0.0" izz="1.28e-06"/>
    </inertial>
    <visual>
      <origin rpy="0 0 0" xyz="0 0 0"/>
      <geometry>
        <sphere radius="0.015"/>
        <!-- <box size="0.022 0.25 0.0325" /> -->
        <!--<mesh filename="package://phantomx_description/meshes/tibia_l.STL"  scale="1 1 1"/>-->
      </geometry>
      <material name="Black">
        <color rgba="1.0 0 0 0"/>
      </material>
    </visual>
    <collision>
      <origin rpy="0.0 0 0.0" xyz="0.0 0 0"/>
      <geometry>
        <sphere radius="0.015"/>
        <!-- <mesh filename="package://phantomx_description/meshes/tibia_l_coll.STL"  scale="1 1 1"/> -->
      </geometry>
    </collision>
  </link>
  <!-- Joint Definitions -->
  <joint name="j_coxa_4" type="revolute">
    <parent link="body"/>
    <child link="coxa_4"/>
    <origin rpy="0 0 2.62" xyz="-0.175 0.1  0.001116"/>
    <axis xyz="0 0 1"/>
    <limit effort="30" lower="-3.14" upper="3.14" velocity="0.5"/>
  </joint>
  <joint name="j_c2_4" type="fixed">
    <parent link="coxa_4"/>
    <child link="c2_4"/>
    <origin rpy="0 0 0" xyz="0.0135 0 0"/>
    <limit effort="30" lower="-3.14" upper="3.14" velocity="0.5"/>
  </joint>
  <joint name="j_femur_4" type="revolute">
    <parent link="c2_4"/>
    <child link="femur_4"/>
    <origin rpy=" 1.57 0 0" xyz="0 0 0"/>
    <axis xyz="0 0 1"/>
    <limit effort="30" lower="-3.14" upper="3.14" velocity="0.5"/>
  </joint>
  <joint name="j_tibia_4" type="revolute">
    <parent link="femur_4"/>
    <child link="tibia_4"/>
    <origin rpy="0 0 0" xyz="0.125 0 0"/>
    <axis xyz="0 0 1"/>
    <limit effort="30" lower="-3.14" upper="3.14" velocity="0.5"/>
  </joint>
  <joint name="j_contact_sensor_4" type="fixed">
    <parent link="tibia_4"/>
    <child link="contact_sensor_4"/>
    <origin rpy="0 0 0" xyz="0.25 0 0"/>
  </joint>
  <!-- <gazebo reference="$tibia_${suffix}">
        <mu1>1</mu1>
        <mu2>1</mu2>
        <fdir1>1 0 0</fdir1>
        <minDepth>0.005</minDepth>
        <maxContacts>1</maxContacts>
            <collision name="$tibia_${suffix}_collision">
                <geometry>
                    <sphere>
                    <radius>0.02175</radius>
                </sphere>
                </geometry>

            <surface>
                <friction>
                    <torsional>
                            <coefficient>10</coefficient>
                            <use_patch_radius>true</use_patch_radius>
                            <surface_radius>0.05</surface_radius>
                            <patch_radius>0.01</patch_radius>
                    </torsional>
            </friction>
            <contact>
                <poissons_ratio>0.5</poissons_ratio>
                <elastic_modulus>1e8</elastic_modulus>
            </contact>
        </surface>
    </collision>
    </gazebo> -->
  <!-- Force/Contact Sensor -->
  <!-- This should be added later to provide the force sensor feeback to the rest of the robot -->
  <gazebo reference="contact_sensor_4">
    <sensor name="contact_sensor_4" type="contact">
      <always_on>true</always_on>
      <update_rate>30</update_rate>
      <contact>
        <collision>contact_sensor_4_link_collision</collision>
      </contact>
      <plugin filename="libgazebo_ros_bumper.so" name="bumper0_plugin">
        <bumperTopicName>leg_4/contact_sensor_state</bumperTopicName>
        <frameName>contact_sensor_4</frameName>
      </plugin>
    </sensor>
  </gazebo>
  <!-- Transmissions -->
  <transmission name="t_coxa_4">
    <type>transmission_interface/SimpleTransmission</type>
    <joint name="j_coxa_4">
      <hardwareInterface>hardware_interface/EffortJointInterface</hardwareInterface>
    </joint>
    <actuator name="j_coxa_4">
      <hardwareInterface>hardware_interface/EffortJointInterface</hardwareInterface>
      <mechanicalReduction>1</mechanicalReduction>
    </actuator>
  </transmission>
  <transmission name="t_femur_4">
    <type>transmission_interface/SimpleTransmission</type>
    <joint name="j_femur_4">
      <hardwareInterface>hardware_interface/EffortJointInterface</hardwareInterface>
    </joint>
    <actuator name="j_femur_4">
      <hardwareInterface>hardware_interface/EffortJointInterface</hardwareInterface>
      <mechanicalReduction>1</mechanicalReduction>
    </actuator>
  </transmission>
  <transmission name="t_tibia_4">
    <type>transmission_interface/SimpleTransmission</type>
    <joint name="j_tibia_4">
      <hardwareInterface>hardware_interface/EffortJointInterface</hardwareInterface>
    </joint>
    <actuator name="j_tibia_4">
      <hardwareInterface>hardware_interface/EffortJointInterface</hardwareInterface>
      <mechanicalReduction>1</mechanicalReduction>
    </actuator>
  </transmission>
  <gazebo reference="body">
    <material>Gazebo/Orange</material>
  </gazebo>
  <gazebo reference="coxa_4">
    <material>Gazebo/Black</material>
  </gazebo>
  <gazebo reference="c2_4">
    <material>Gazebo/Orange</material>
  </gazebo>
  <gazebo reference="femur_4">
    <material>Gazebo/Black</material>
  </gazebo>
  <gazebo reference="tibia_4">
    <material>Gazebo/Orange</material>
  </gazebo>
  <gazebo reference="contact_sensor_4">
    <material>Gazebo/Black</material>
  </gazebo>
  <!-- <gazebo>
    <controller:gazebo_ros_controller_manager plugin="libgazebo_ros_controller_manager.so" name="gazebo_ros_controller_manager">
        <alwaysOn>true</alwaysOn>
        <updateRate>1000.0</updateRate>
        <robotParam>robot_description</robotParam>
        <robotNamespace>/</robotNamespace>
    </controller:gazebo_ros_controller_manager>
  </gazebo> -->
  <gazebo>
    <plugin filename="libgazebo_ros_control.so" name="gazebo_ros_control"> 
    </plugin>
  </gazebo>
</robot>
